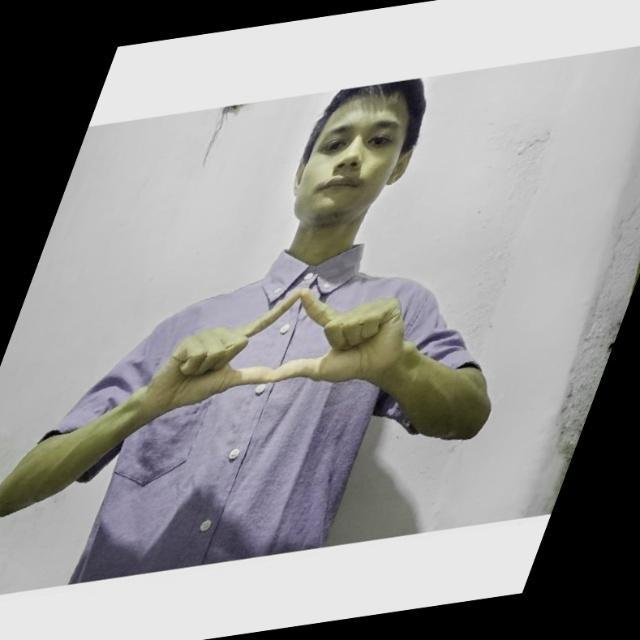A: (142, 282, 415, 409)
